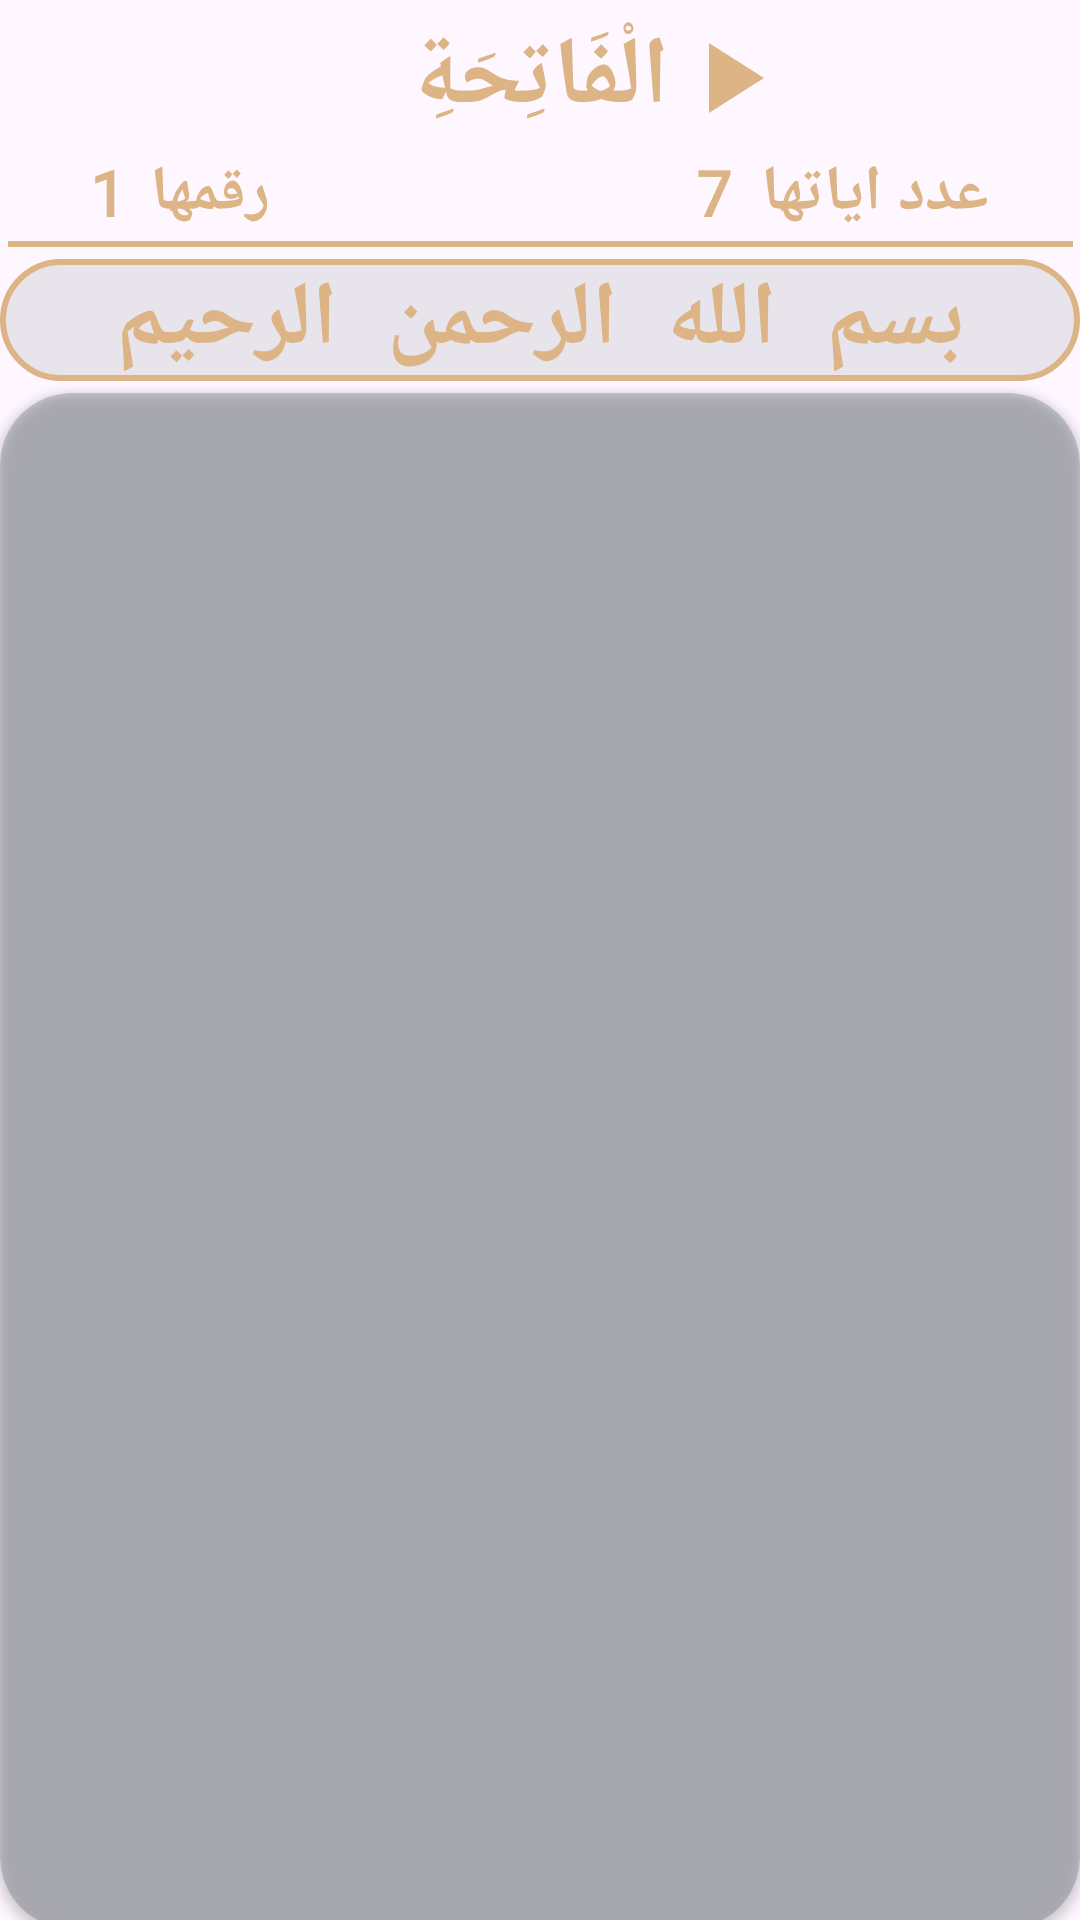

Named icons in this screenshot (1080w x 1920h) and their bounding boxes, (x1, y1, x2, y2):
play arrow: (709, 43, 764, 113)
